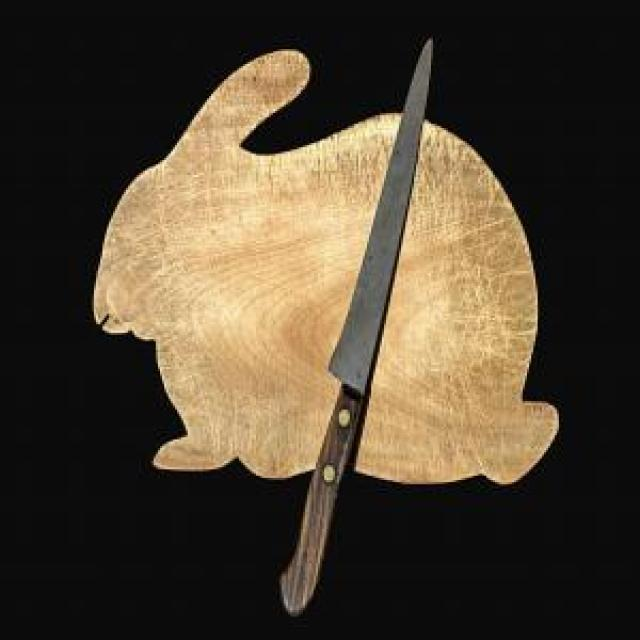knife: (276, 36, 438, 638)
